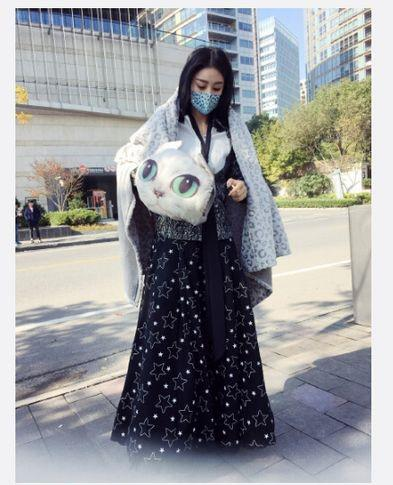OK: (189, 75, 228, 114)
